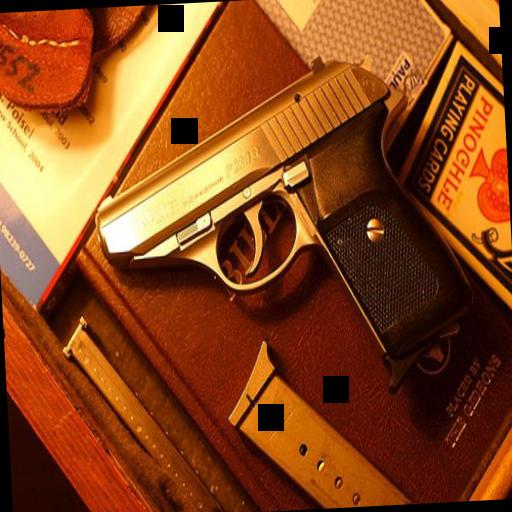Handgun: (82, 44, 472, 400)
